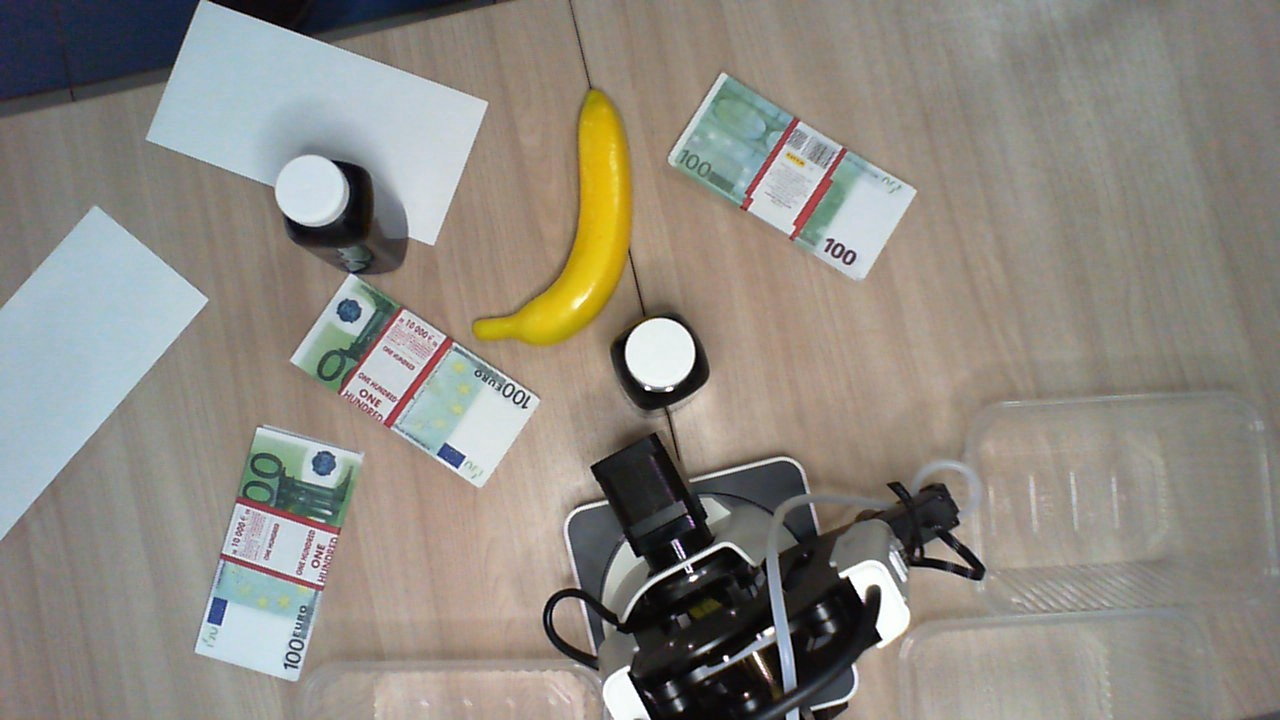banana: (471, 78, 643, 355)
bottle: (609, 307, 712, 411), (275, 158, 386, 251)
convert: (143, 1, 491, 255), (1, 201, 211, 547)
money: (293, 271, 548, 485), (669, 75, 915, 276), (194, 426, 367, 676)
